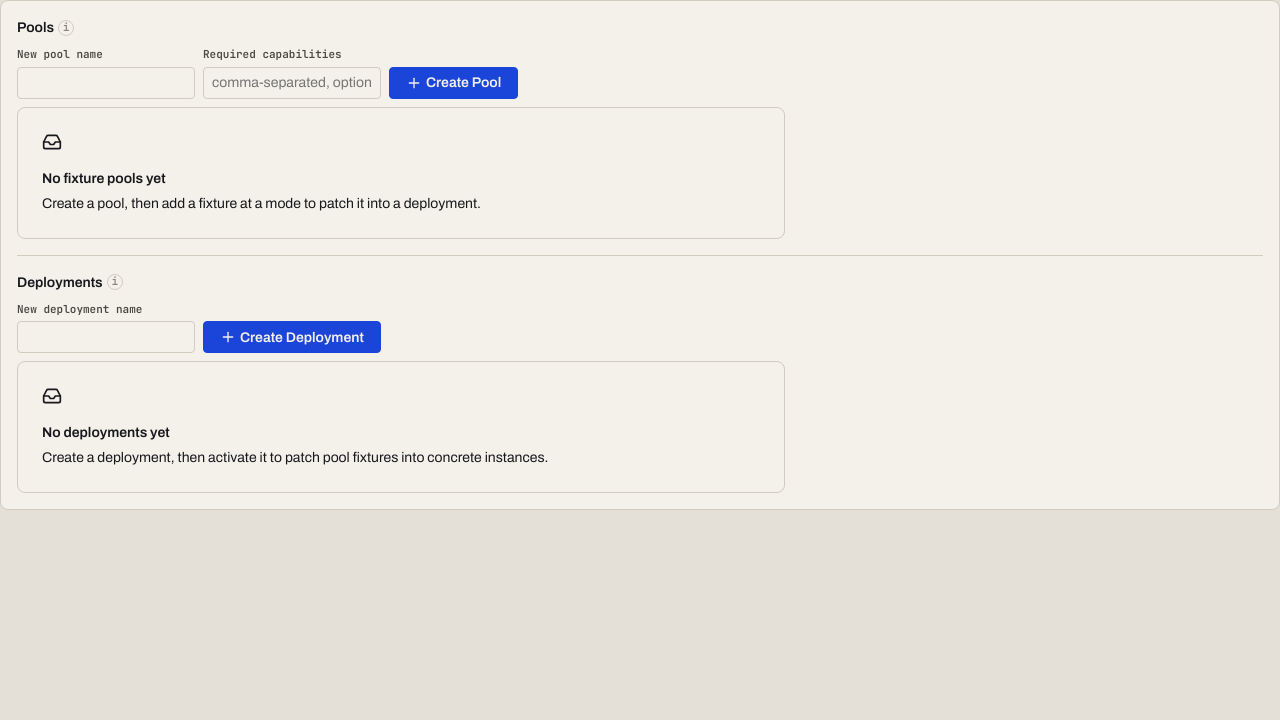
Test: FixturePatch › creates and activates a deployment
Check: the heading "No deployments yet" is shown, box [42,425,170,440]
In the field labelled "New deployment name": (106, 337) [17,321,195,353], type "Main Rig"
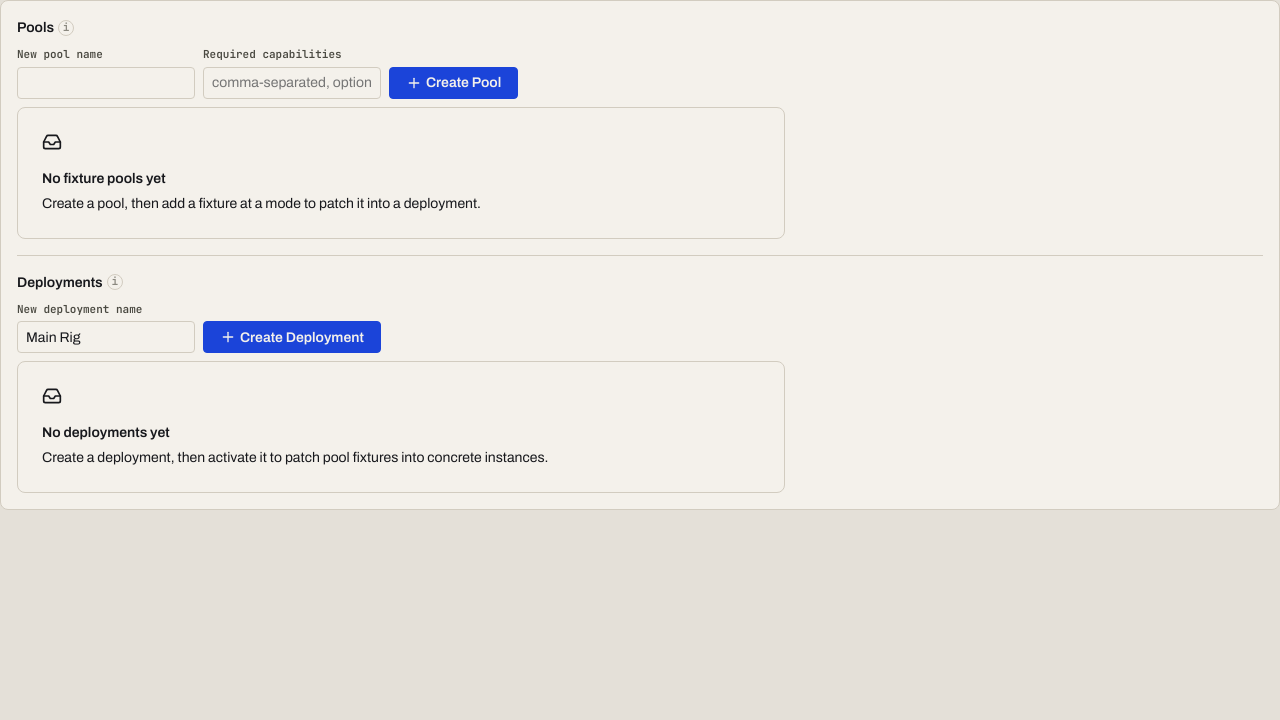
Click the button "Create Deployment": (292, 337) [203,321,381,353]
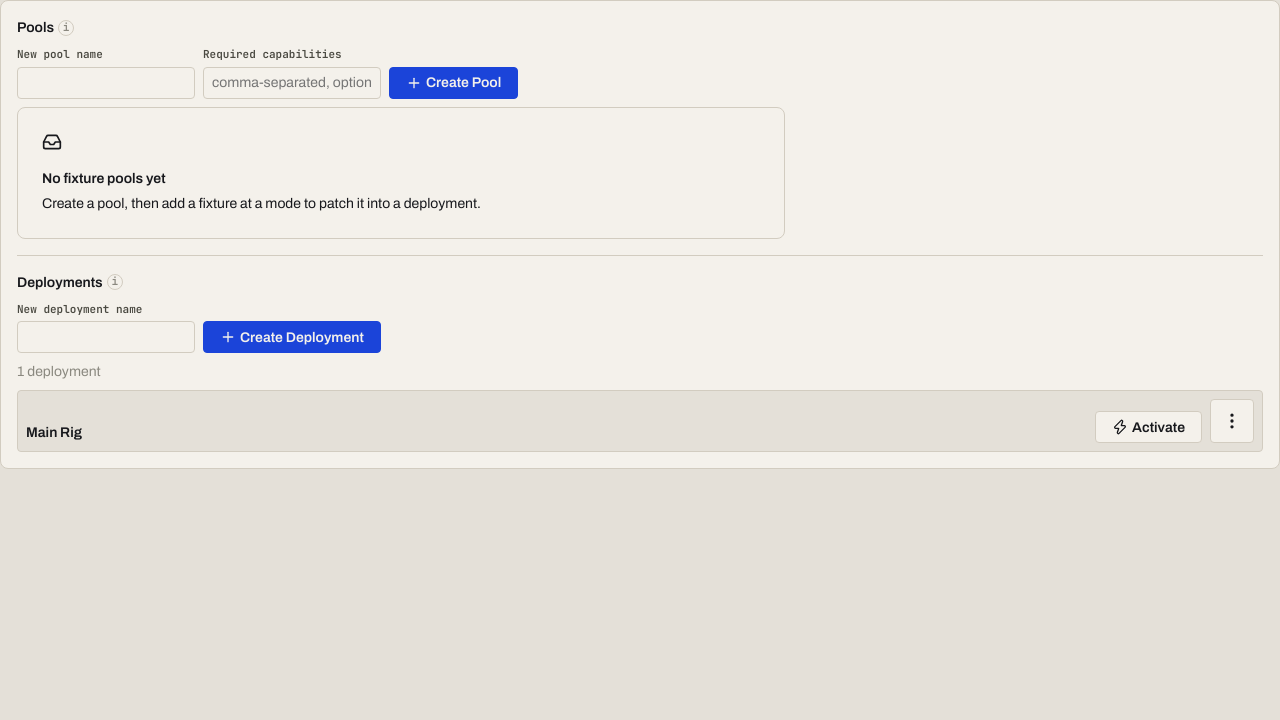
Click the button "Activate": (1149, 427) [1095,411,1202,443]
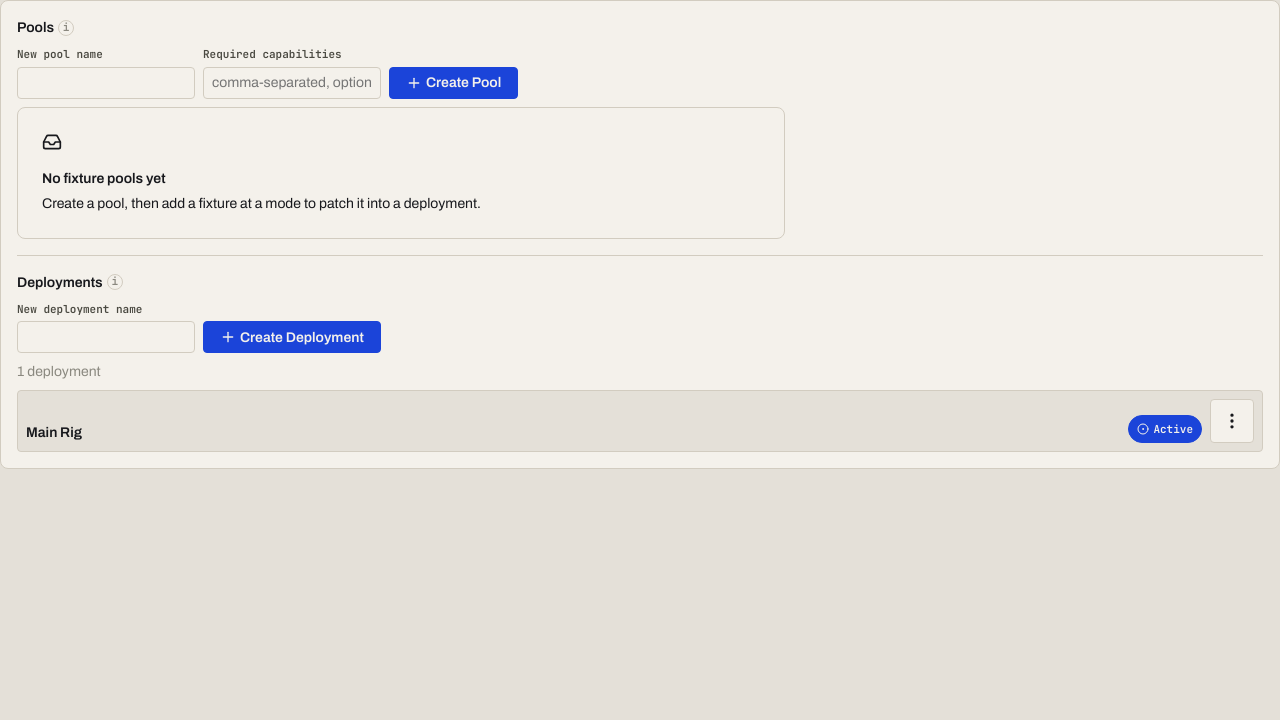
Check: the text "Active" is shown, box [1128,415,1202,443]
